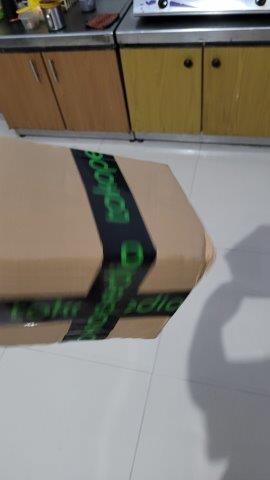kardus: (1, 136, 216, 348)
